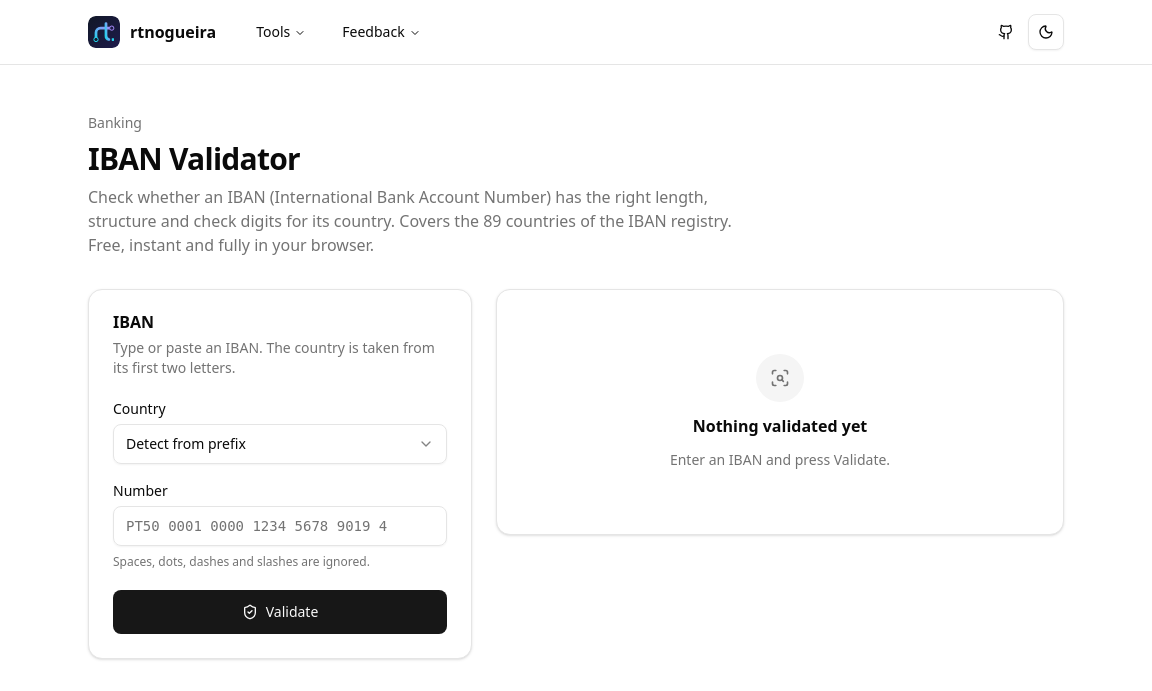
IBAN validator page › reports a wrong check digit
The width and height of the screenshot is (1152, 691).
Expected: the heading "IBAN Validator" is shown, [88,138,300,179]
Type "PT51 0001 0000 1234 5678 9019 4" into the field labelled "Number" at (280, 526), box [113,506,447,546]
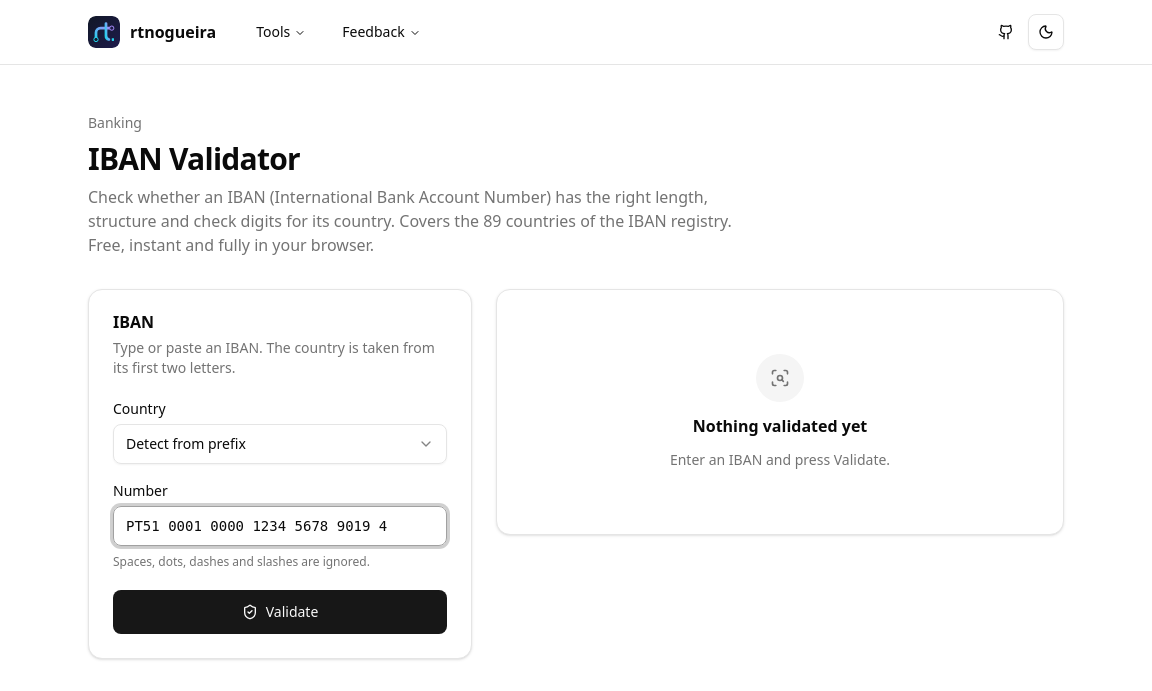
Click the button "Validate" at (280, 612), box [113,590,447,634]
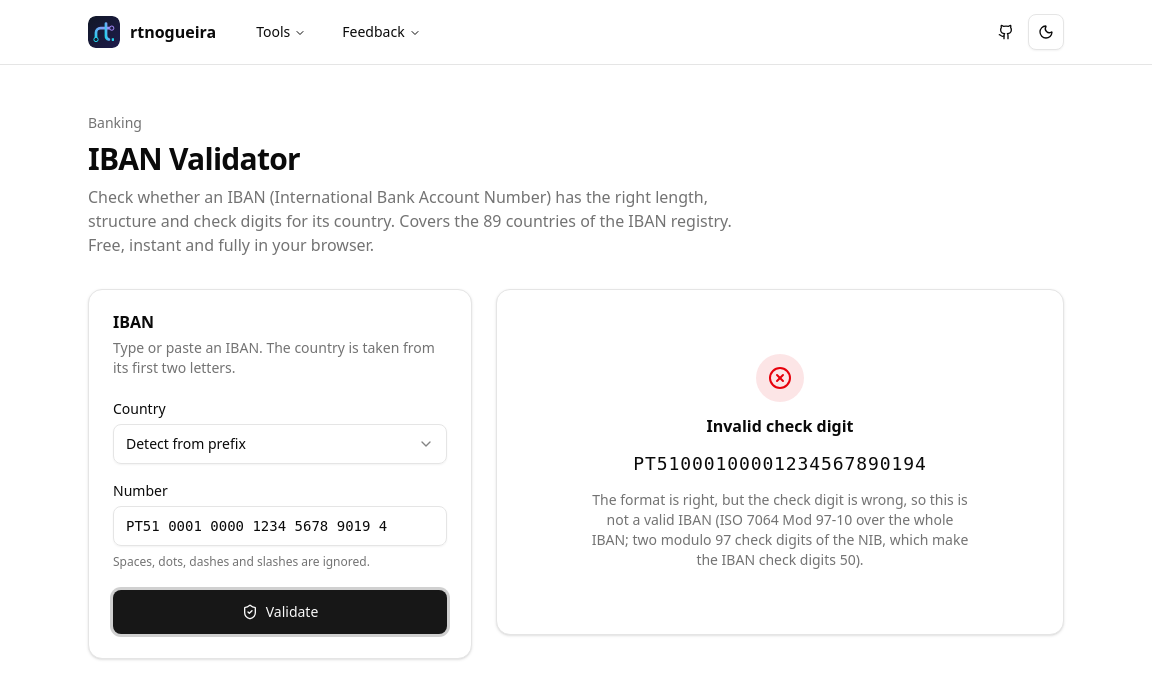
Result: the text "Invalid check digit" is shown at [706,414,854,438]
